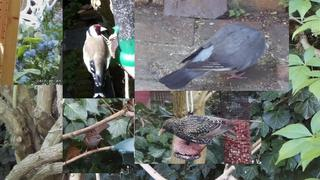dunnock: (83, 122, 110, 156)
goldfinch: (83, 24, 111, 98)
starling: (159, 115, 237, 145)
wood pigeon: (159, 24, 265, 90)
